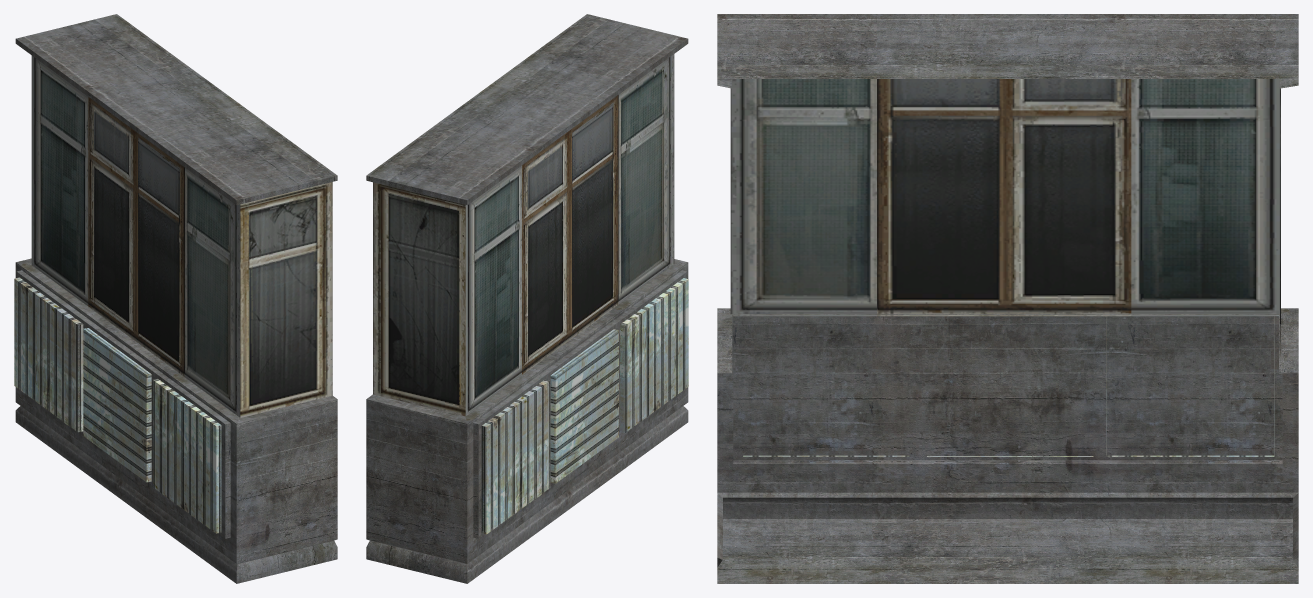
The model's file is civ_balcony_c.FBX.
3 renders of one model, left to right at view 1: azimuth 30°, elevation 25°; view 2: azimuth 150°, elevation 25°; view 3: azimuth 270°, elevation 25°, orthographic. The views are drawn at different scales.
Parts seen in each view (by area): view 1: civ_balcony_c; view 2: civ_balcony_c; view 3: civ_balcony_c.
Part boxes in pixels (x1,y1,x2,y2): civ_balcony_c: (14,14,337,583); civ_balcony_c: (366,14,688,583); civ_balcony_c: (717,14,1298,583).
Size of the model in its own units: 87.81 by 288 by 300.
